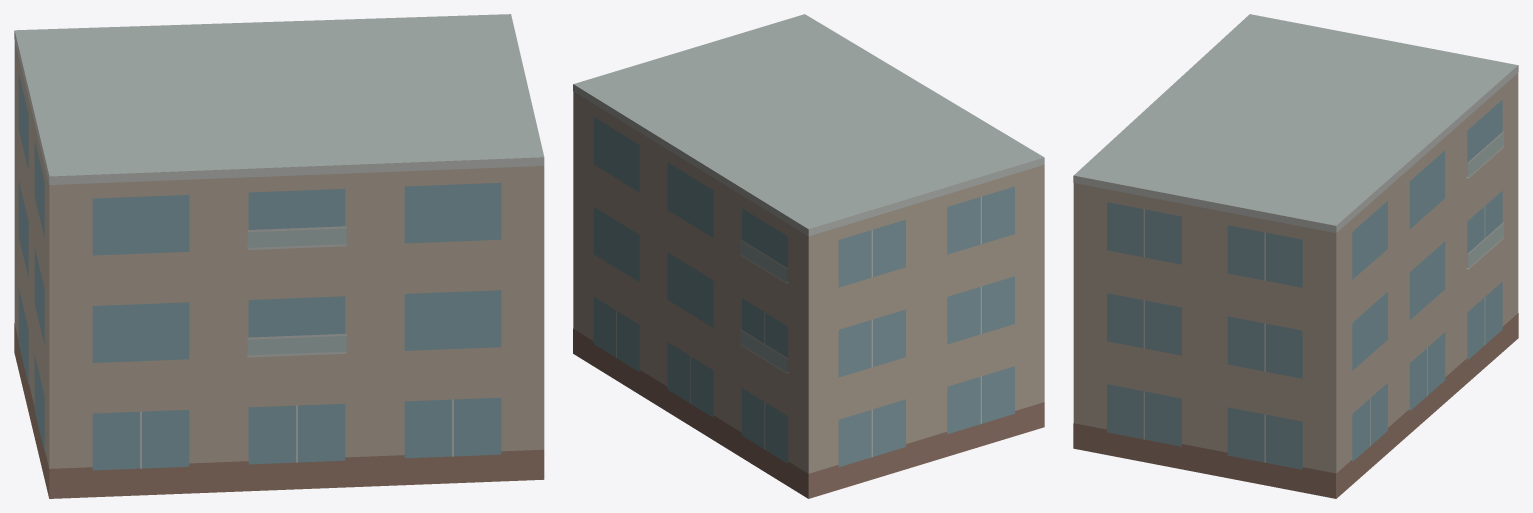
Rendered from survey-upis-33010703.glb.
3 renders of one model, left to right at view 1: azimuth 30°, elevation 25°; view 2: azimuth 150°, elevation 25°; view 3: azimuth 270°, elevation 25°, orthographic. The views are drawn at different scales.
Visible parts, largest first — view 1: survey-upis-33010703.tmp; view 2: survey-upis-33010703.tmp; view 3: survey-upis-33010703.tmp.
Part boxes in pixels (x1=…): survey-upis-33010703.tmp: x1=14, y1=14, x2=544, y2=498; survey-upis-33010703.tmp: x1=573, y1=14, x2=1044, y2=498; survey-upis-33010703.tmp: x1=1073, y1=14, x2=1518, y2=498.
Size of the model in its own units: 15.24 by 9.15 by 13.52.
